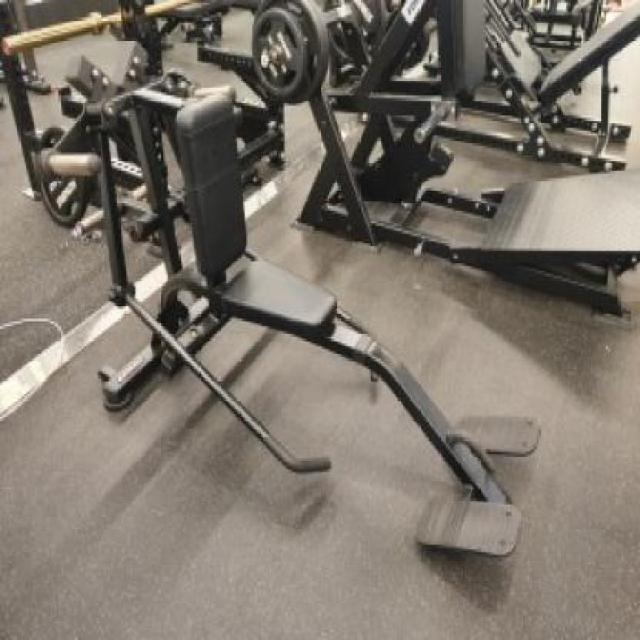lateral raises machine: (94, 99, 541, 558)
